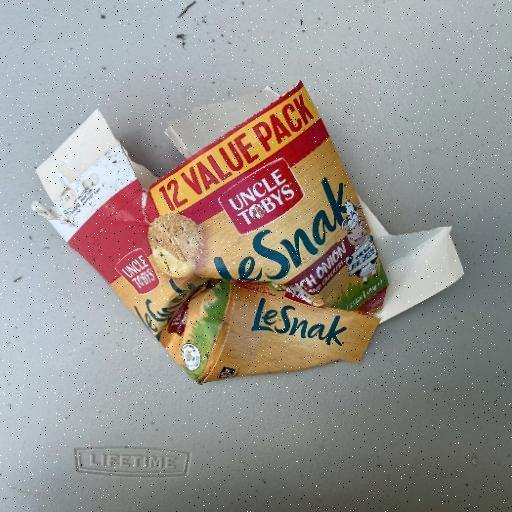Cardboard: (29, 79, 464, 386)
